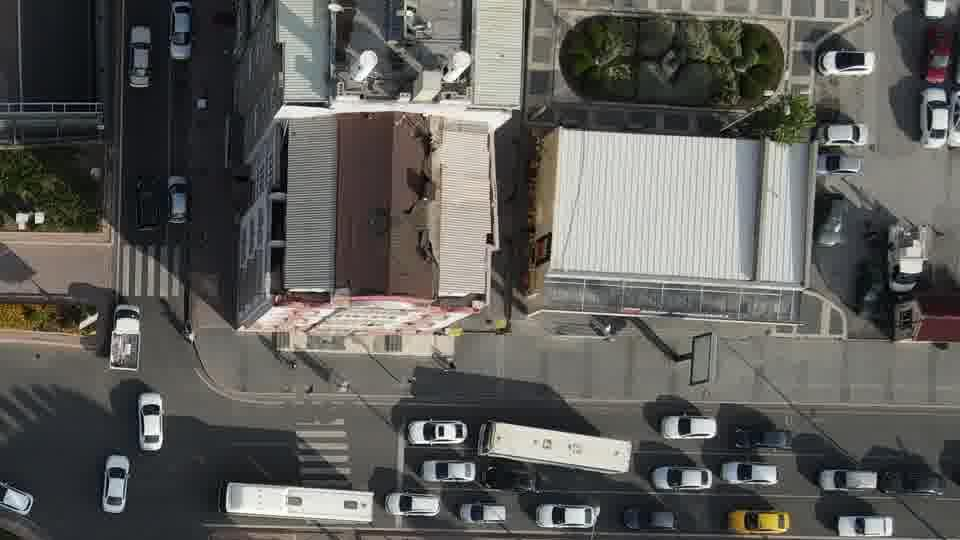bus: (477, 419, 632, 476), (216, 478, 374, 525)
cars: (813, 188, 849, 247), (99, 454, 131, 514), (919, 86, 949, 149), (817, 48, 878, 78), (922, 22, 951, 83), (725, 509, 793, 535), (136, 390, 164, 452), (127, 24, 154, 88), (134, 173, 163, 232), (167, 1, 195, 62), (407, 417, 468, 445), (879, 471, 947, 496), (815, 469, 877, 496), (649, 465, 713, 491), (534, 502, 597, 528), (720, 460, 783, 486), (735, 425, 794, 451), (385, 491, 442, 517), (623, 505, 680, 531), (836, 513, 895, 538), (660, 415, 718, 440), (816, 120, 869, 147), (420, 459, 476, 484), (457, 501, 509, 525), (815, 151, 864, 176), (166, 173, 189, 225), (0, 479, 33, 514), (950, 88, 960, 148), (921, 0, 947, 19)
truck: (887, 221, 930, 293), (108, 303, 142, 373)
